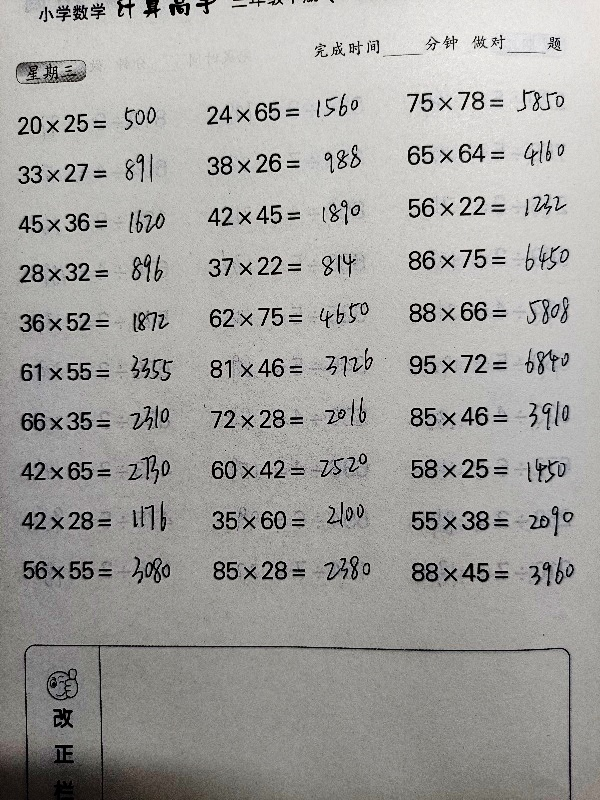equation: (399, 188, 579, 224), (403, 555, 583, 590), (205, 553, 385, 588), (403, 503, 583, 538), (204, 503, 384, 538), (403, 451, 583, 486), (401, 399, 581, 434), (400, 346, 580, 381), (400, 294, 580, 329), (11, 254, 191, 289), (200, 248, 380, 283), (399, 241, 579, 276), (10, 205, 190, 240), (199, 197, 379, 232), (198, 146, 378, 181), (398, 136, 578, 171), (198, 95, 378, 130), (398, 83, 578, 118), (15, 553, 195, 587), (13, 504, 193, 538), (13, 454, 193, 488), (202, 452, 382, 486), (12, 404, 192, 438), (203, 402, 383, 436), (201, 351, 381, 385), (11, 305, 191, 339), (200, 300, 380, 334), (9, 156, 189, 190), (9, 106, 189, 140), (11, 355, 191, 388)
